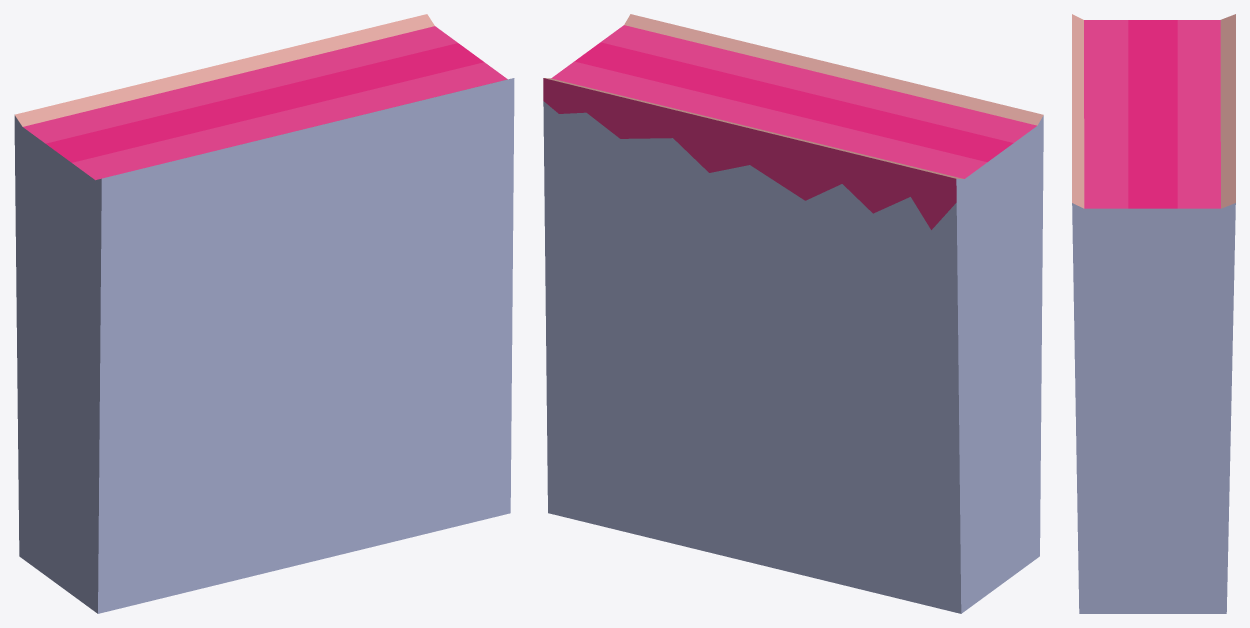
The model's file is Road.fbx.
The picture shows the model from 3 angles, left to right: view 1: azimuth 30°, elevation 25°; view 2: azimuth 150°, elevation 25°; view 3: azimuth 270°, elevation 25°; orthographic projection. The views are drawn at different scales.
Visible parts, largest first — view 1: Road; view 2: Road; view 3: Road.
Part boxes in pixels (bbox=[...]): Road: bbox=[14, 14, 514, 613]; Road: bbox=[543, 14, 1043, 613]; Road: bbox=[1072, 14, 1235, 613].
Bounding box in the file's own units: 1500 × 1522 × 549.
